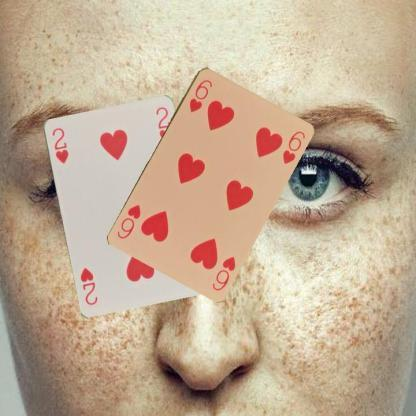2h: (49, 124, 69, 164)
6h: (186, 76, 214, 113), (209, 254, 236, 291)
